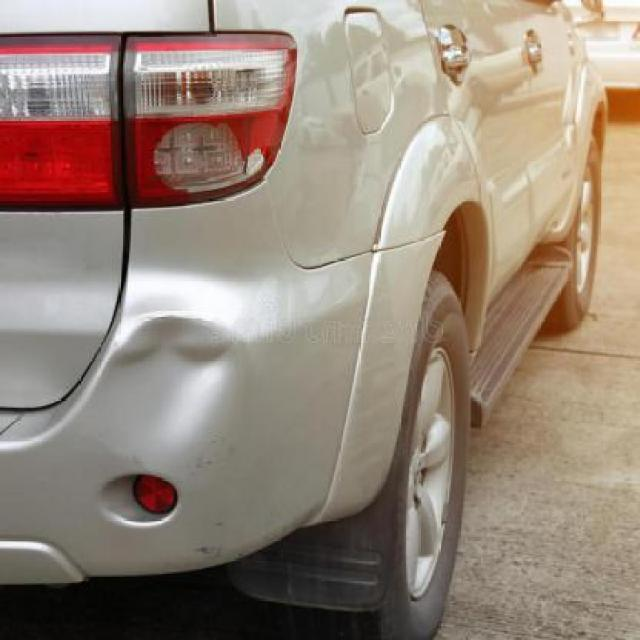car damage: (130, 179, 369, 344), (76, 309, 262, 477)
